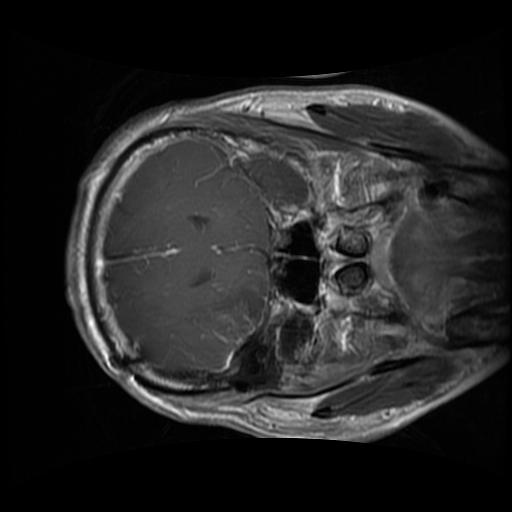glioma: (152, 310, 315, 393)
